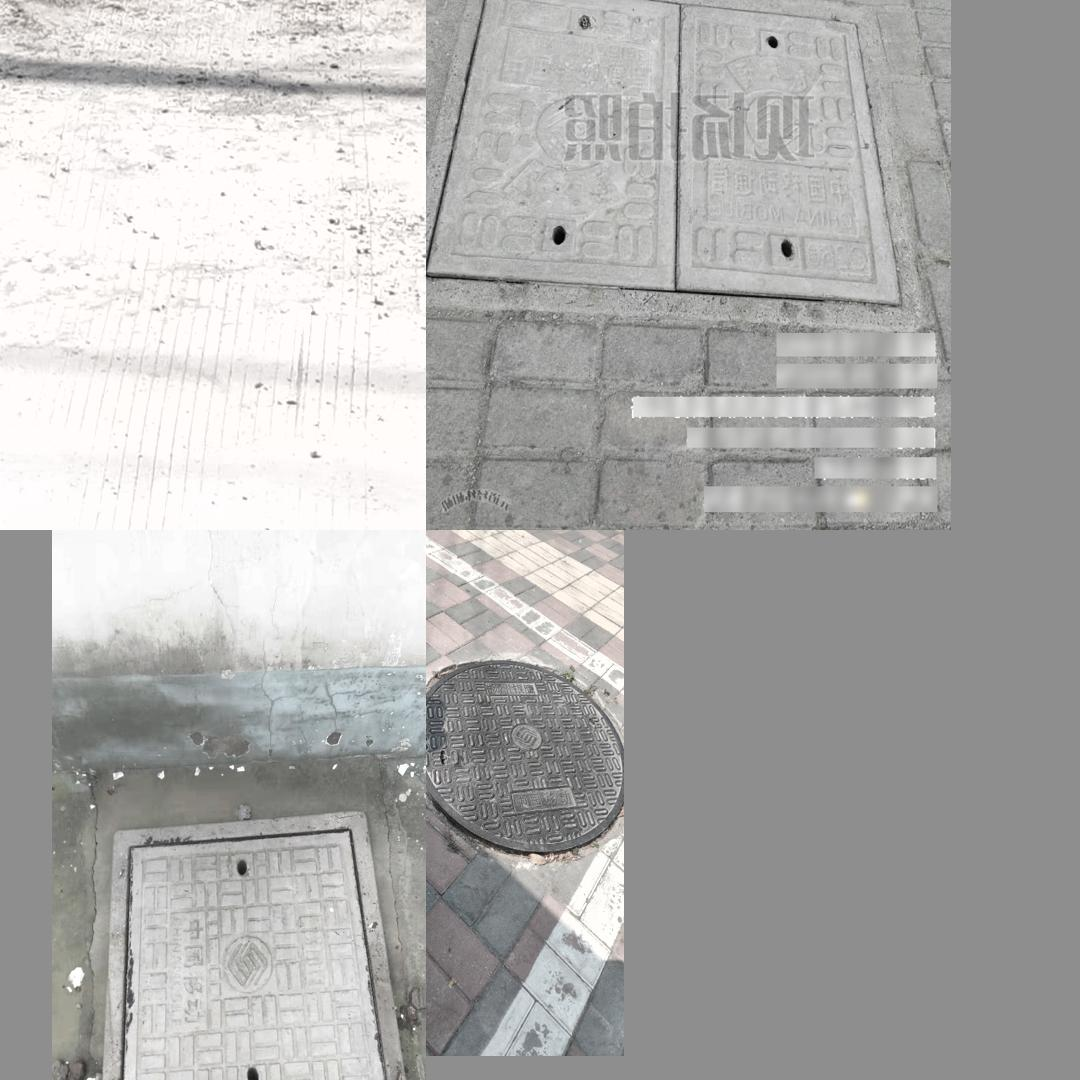good: (426, 0, 906, 327), (97, 807, 412, 1080), (427, 659, 624, 851)
